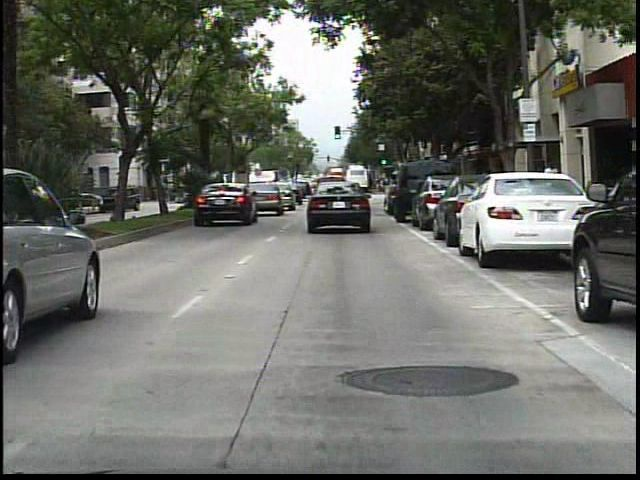person: (540, 157, 563, 216)
